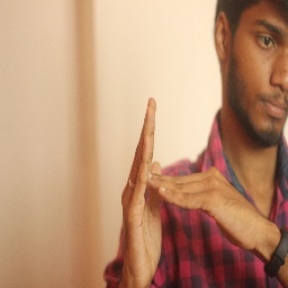Z: (113, 88, 257, 280)
